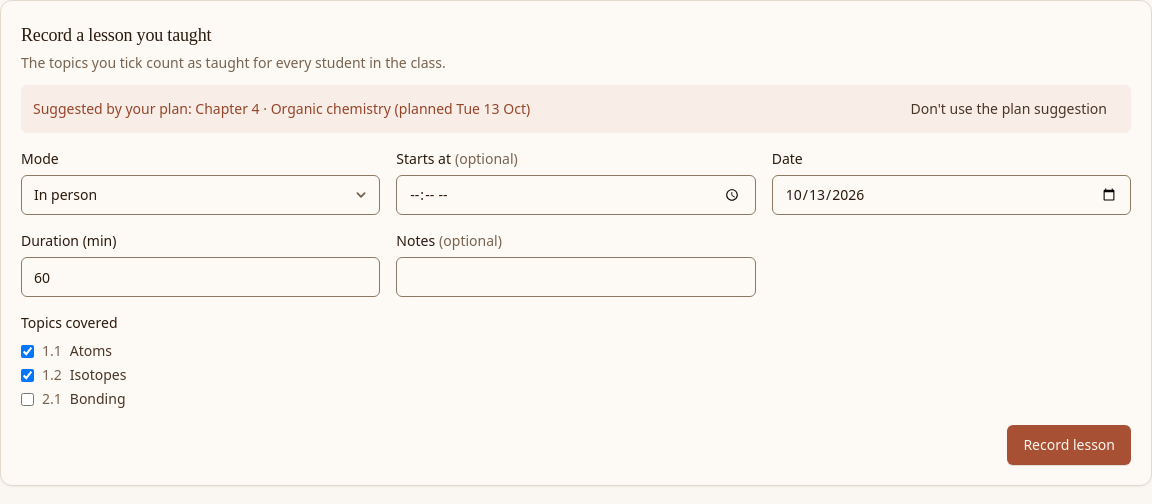
a touched form is not overwritten by a new suggestion, which is offered instead
Expected: the checkbox labelled "1.1 Atoms" is checked, [21, 344, 34, 358]
Step 1. Click the checkbox labelled "2.1 Bonding" → (28, 399), box [21, 392, 34, 406]
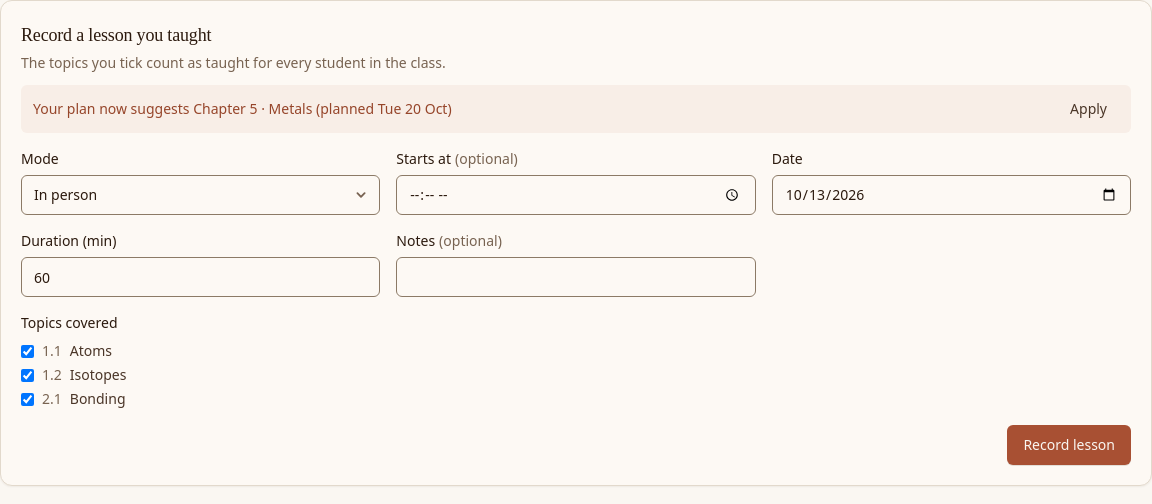
Expected: the date field labelled "Date" holds "2026-10-13", [772, 175, 1131, 215]
Now the checkbox labelled "2.1 Bonding" is checked, box [21, 392, 34, 406]
Now the text "Your plan now suggests Chapter 5 · Metals" is shown, box [33, 99, 452, 119]
Step 2. Click the button "Apply" → (1089, 109), box [1058, 93, 1119, 125]
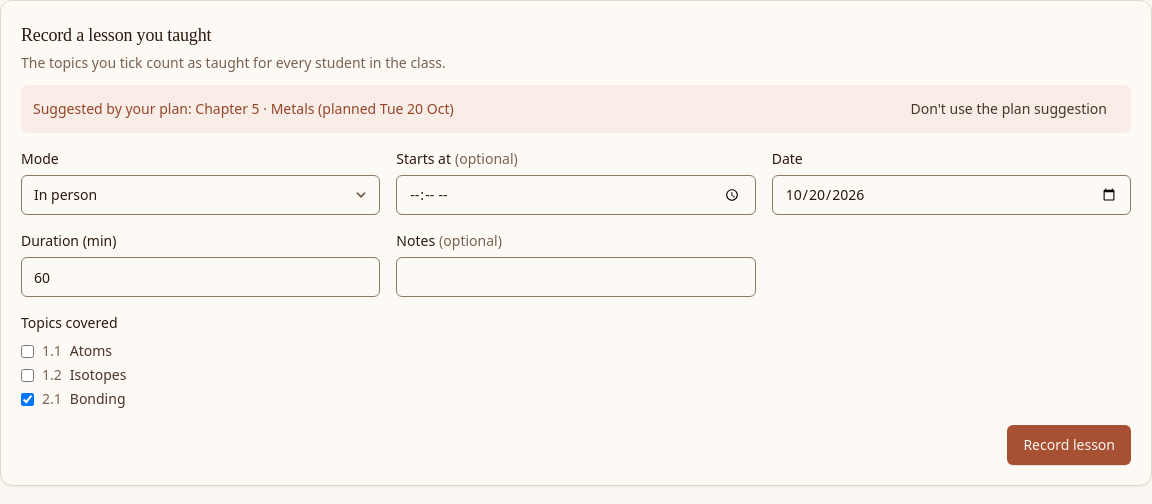
Now the date field labelled "Date" holds "2026-10-20", box [772, 175, 1131, 215]
Now the checkbox labelled "1.1 Atoms" is not checked, box [21, 344, 34, 358]
